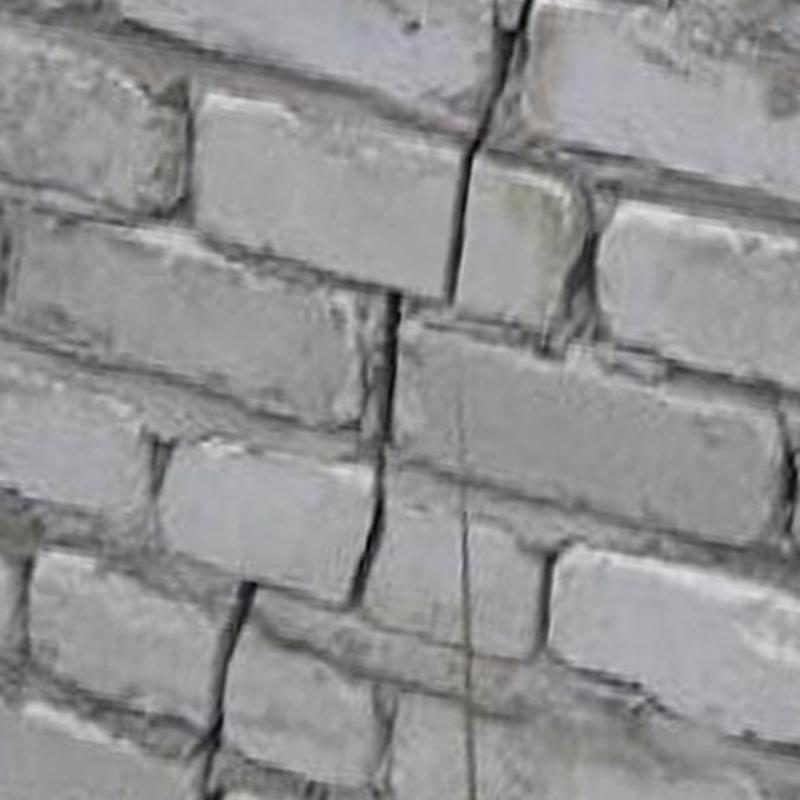pothole: (444, 0, 534, 304), (347, 292, 402, 607), (200, 581, 258, 799), (461, 511, 477, 799), (536, 549, 558, 641), (585, 233, 599, 282), (786, 451, 798, 503)
